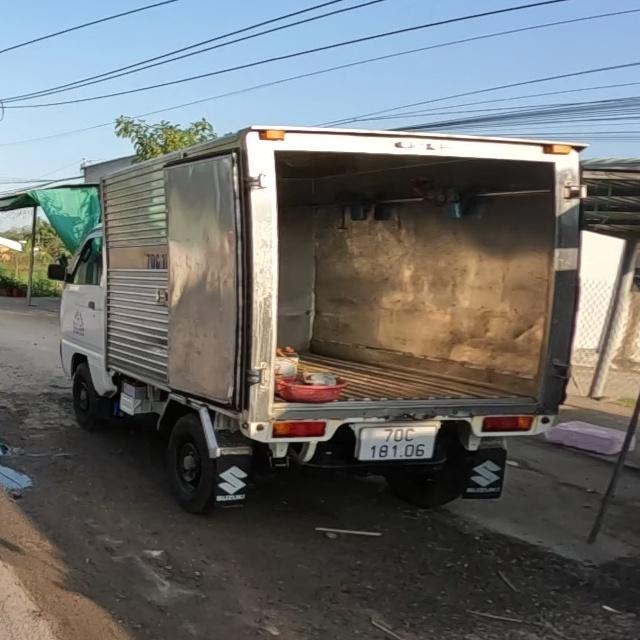license-plate: (357, 424, 437, 463)
